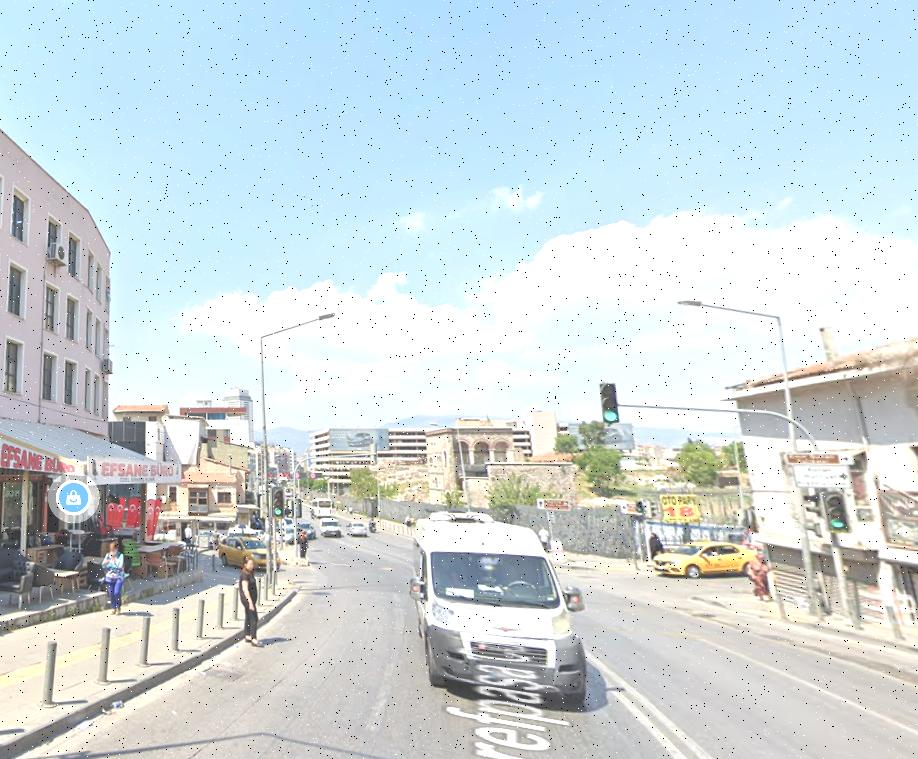greenlight: (600, 381, 621, 422), (273, 488, 285, 515)
